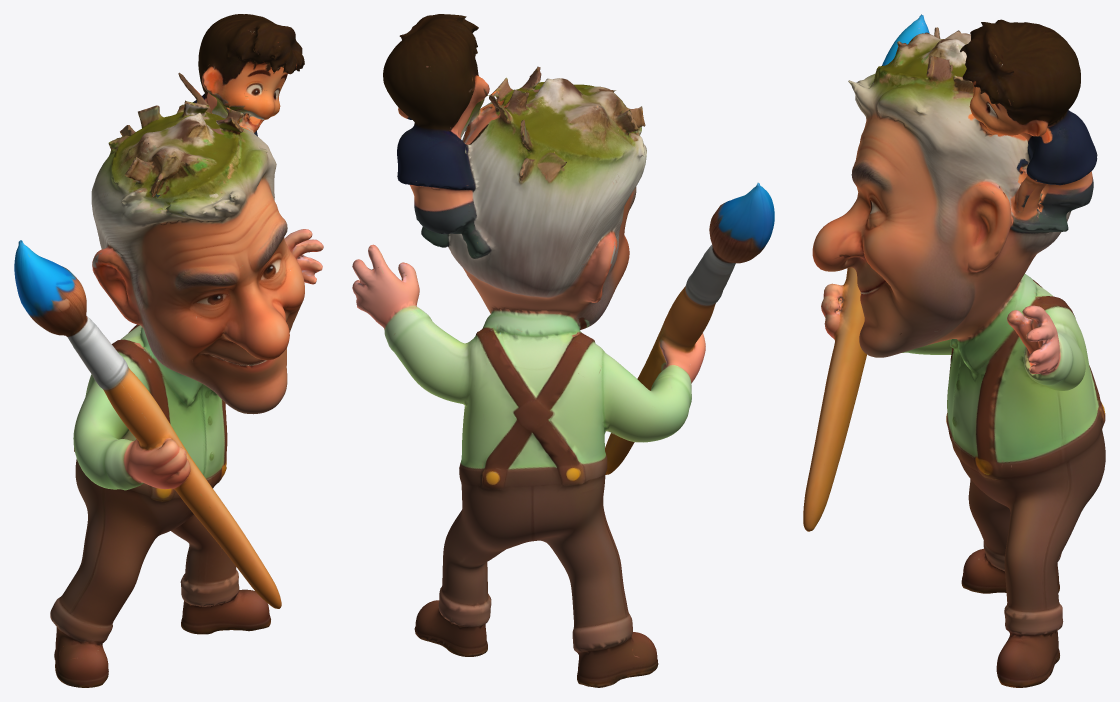
File: hero.glb
3 views of the same model, side by side, from view 1: azimuth 30°, elevation 25°; view 2: azimuth 150°, elevation 25°; view 3: azimuth 270°, elevation 25° (orthographic). The views are drawn at different scales.
Visible parts, largest first — view 1: Mesh0; view 2: Mesh0; view 3: Mesh0.
Boxes of the visible parts, box(x1,y1,x2,y2) form: Mesh0: box(14, 14, 323, 687); Mesh0: box(352, 14, 774, 687); Mesh0: box(803, 14, 1105, 687).
Bounding box in the file's own units: 1.24 × 2 × 0.8364.
1 material, 1 textured.
